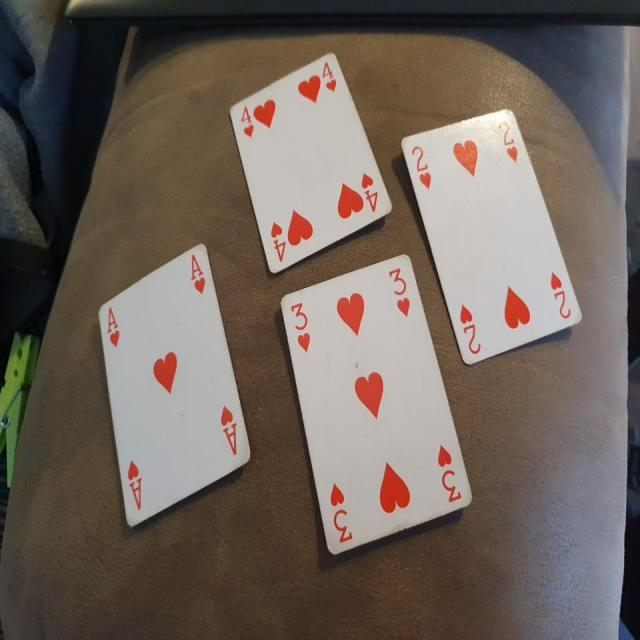2 Hearts: (398, 106, 587, 372)
3 Hearts: (279, 249, 471, 570)
4 Hearts: (229, 45, 396, 282)
A Hearts: (86, 240, 255, 546)
